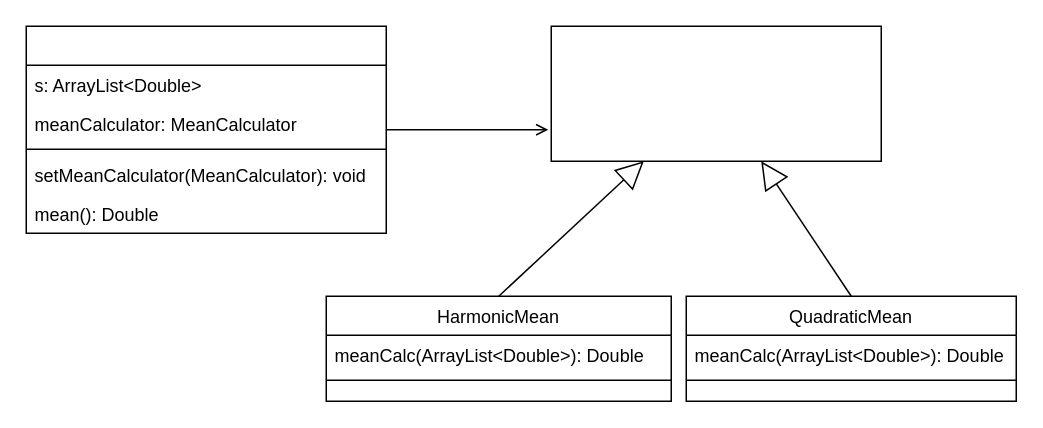
The diagram is 1043 pixels wide and 428 high, and some of its shapes have lost their labels. Here are the shapes that lost their labels. From the top down, the box of each, then its label:
(550, 25, 881, 161): <<Interface>> MeanCalculator meanCalc(ArrayList<Double>): Double
(25, 25, 386, 233): Seq1D
